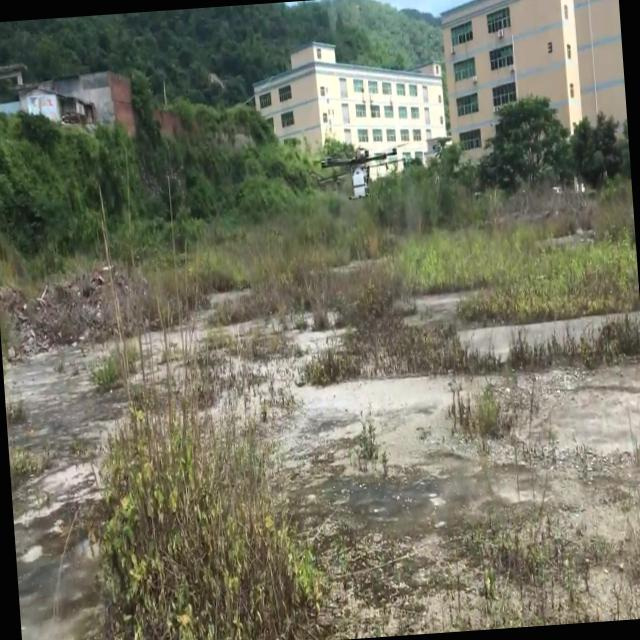drone: (309, 140, 406, 204)
